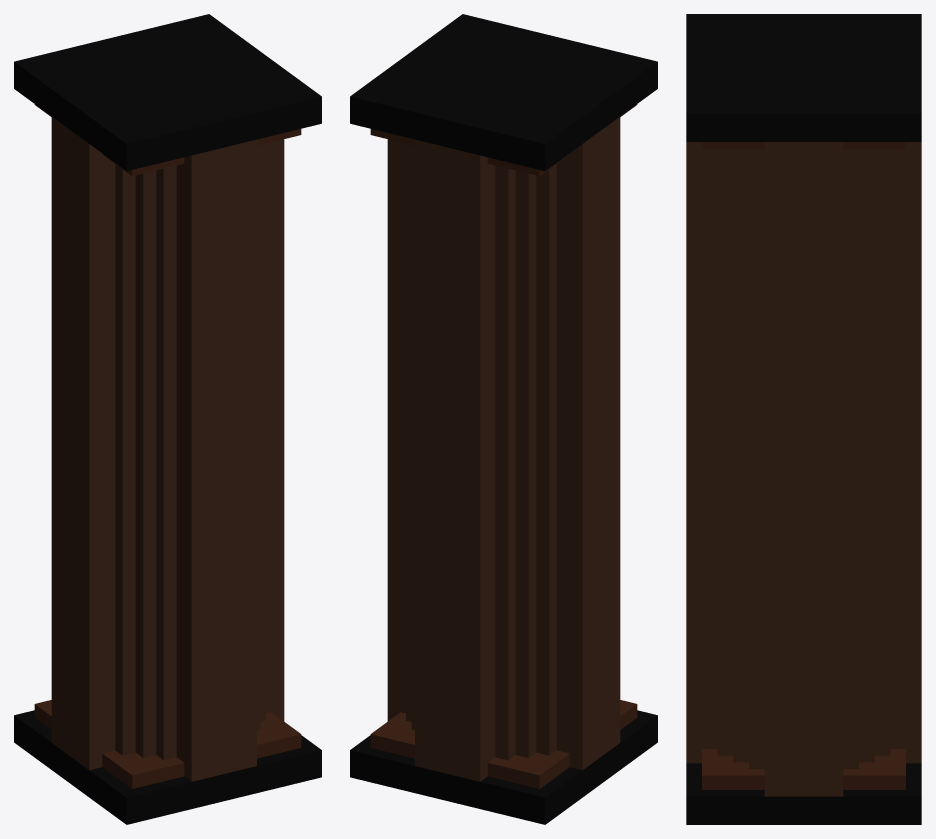
Rendered from Corner-Wood-Model-02.fbx.
3 renders of one model, left to right at view 1: azimuth 30°, elevation 25°; view 2: azimuth 150°, elevation 25°; view 3: azimuth 270°, elevation 25°, orthographic. The views are drawn at different scales.
Parts seen in each view (by area): view 1: Corner-Wood-Model-02; view 2: Corner-Wood-Model-02; view 3: Corner-Wood-Model-02.
Part boxes in pixels (x1,y1,x2,y2): Corner-Wood-Model-02: (14,14,321,824); Corner-Wood-Model-02: (350,14,657,824); Corner-Wood-Model-02: (686,14,921,824).
Size of the model in its own units: 15 by 50 by 15.
Materials: 1 (1 with a texture image).
